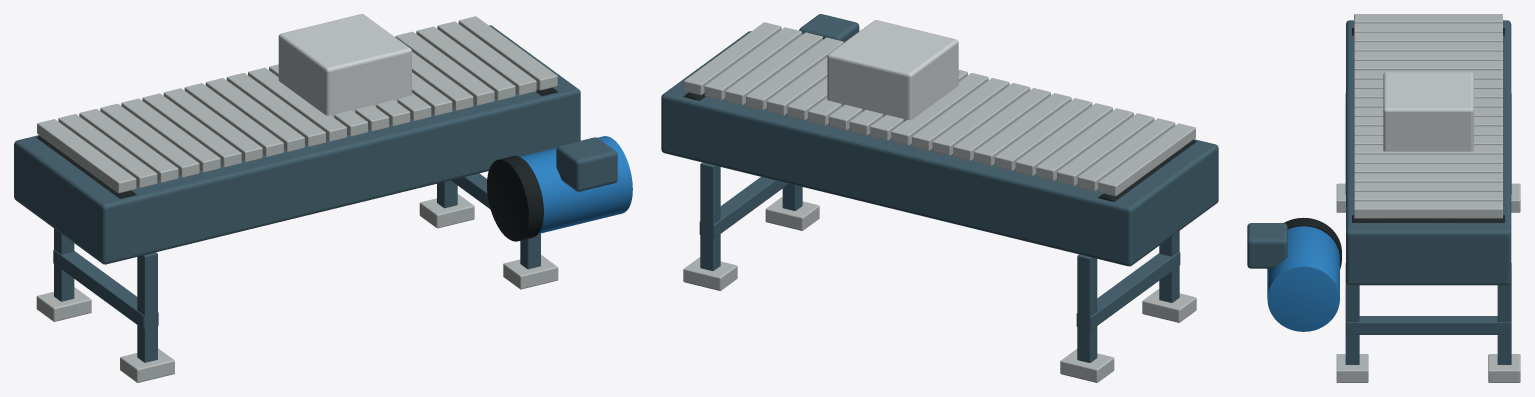
File: steel_slat_conveyor.glb
3 views of the same model, side by side, from view 1: azimuth 30°, elevation 25°; view 2: azimuth 150°, elevation 25°; view 3: azimuth 270°, elevation 25° (orthographic). The views are drawn at different scales.
Parts seen in each view (by area): view 1: FRAME, WORKPIECE, SLAT_DRIVE_MOTOR, SLAT_DRIVE_FAN, SLAT_DRIVE_TERMINAL, KIN_SLAT_0, CROSS_-1.0, LEG_-1.0_-0.3772, KIN_SLAT_4, KIN_SLAT_5, KIN_SLAT_18, KIN_SLAT_1 (+25 smaller); view 2: FRAME, WORKPIECE, KIN_SLAT_0, CROSS_-1.0, LEG_1.0_0.3772, LEG_-1.0_0.3772, KIN_SLAT_5, KIN_SLAT_1, KIN_SLAT_19, KIN_SLAT_4, KIN_SLAT_8, KIN_SLAT_20 (+23 smaller); view 3: FRAME, WORKPIECE, SLAT_DRIVE_MOTOR, CROSS_1.0, KIN_SLAT_20, SLAT_DRIVE_TERMINAL, KIN_SLAT_5, KIN_SLAT_16, KIN_SLAT_2, KIN_SLAT_18, KIN_SLAT_0, KIN_SLAT_1 (+22 smaller).
Boxes of the visible parts, left/top/right/bottom form: FRAME: left=14, top=25, right=580, bottom=264; WORKPIECE: left=278, top=14, right=411, bottom=117; SLAT_DRIVE_MOTOR: left=519, top=136, right=632, bottom=233; SLAT_DRIVE_FAN: left=487, top=156, right=543, bottom=241; SLAT_DRIVE_TERMINAL: left=556, top=137, right=617, bottom=191; KIN_SLAT_0: left=37, top=119, right=136, bottom=193; CROSS_-1.0: left=53, top=249, right=158, bottom=329; LEG_-1.0_-0.3772: left=137, top=252, right=157, bottom=362; KIN_SLAT_4: left=121, top=98, right=220, bottom=172; KIN_SLAT_5: left=142, top=93, right=241, bottom=167; KIN_SLAT_18: left=416, top=26, right=515, bottom=100; KIN_SLAT_1: left=58, top=114, right=157, bottom=187; FRAME: left=661, top=31, right=1218, bottom=266; WORKPIECE: left=827, top=20, right=958, bottom=121; KIN_SLAT_0: left=1098, top=123, right=1195, bottom=196; CROSS_-1.0: left=1076, top=251, right=1180, bottom=330; LEG_1.0_0.3772: left=700, top=162, right=720, bottom=270; LEG_-1.0_0.3772: left=1077, top=254, right=1097, bottom=362; KIN_SLAT_5: left=994, top=98, right=1092, bottom=170; KIN_SLAT_1: left=1077, top=118, right=1175, bottom=191; KIN_SLAT_19: left=704, top=27, right=802, bottom=100; KIN_SLAT_4: left=1015, top=103, right=1112, bottom=176; KIN_SLAT_8: left=932, top=83, right=1030, bottom=155; KIN_SLAT_20: left=684, top=22, right=781, bottom=95; FRAME: left=1346, top=20, right=1511, bottom=285; WORKPIECE: left=1383, top=72, right=1473, bottom=151; SLAT_DRIVE_MOTOR: left=1267, top=226, right=1339, bottom=331; CROSS_1.0: left=1346, top=316, right=1511, bottom=334; KIN_SLAT_20: left=1354, top=201, right=1502, bottom=218; SLAT_DRIVE_TERMINAL: left=1247, top=223, right=1287, bottom=268; KIN_SLAT_5: left=1354, top=60, right=1502, bottom=70; KIN_SLAT_16: left=1354, top=163, right=1502, bottom=173; KIN_SLAT_2: left=1354, top=32, right=1502, bottom=42; KIN_SLAT_18: left=1354, top=182, right=1502, bottom=192; KIN_SLAT_0: left=1354, top=14, right=1502, bottom=23; KIN_SLAT_1: left=1354, top=23, right=1502, bottom=32.
Size of the model in its own units: 2.54 by 1.21 by 1.36.
